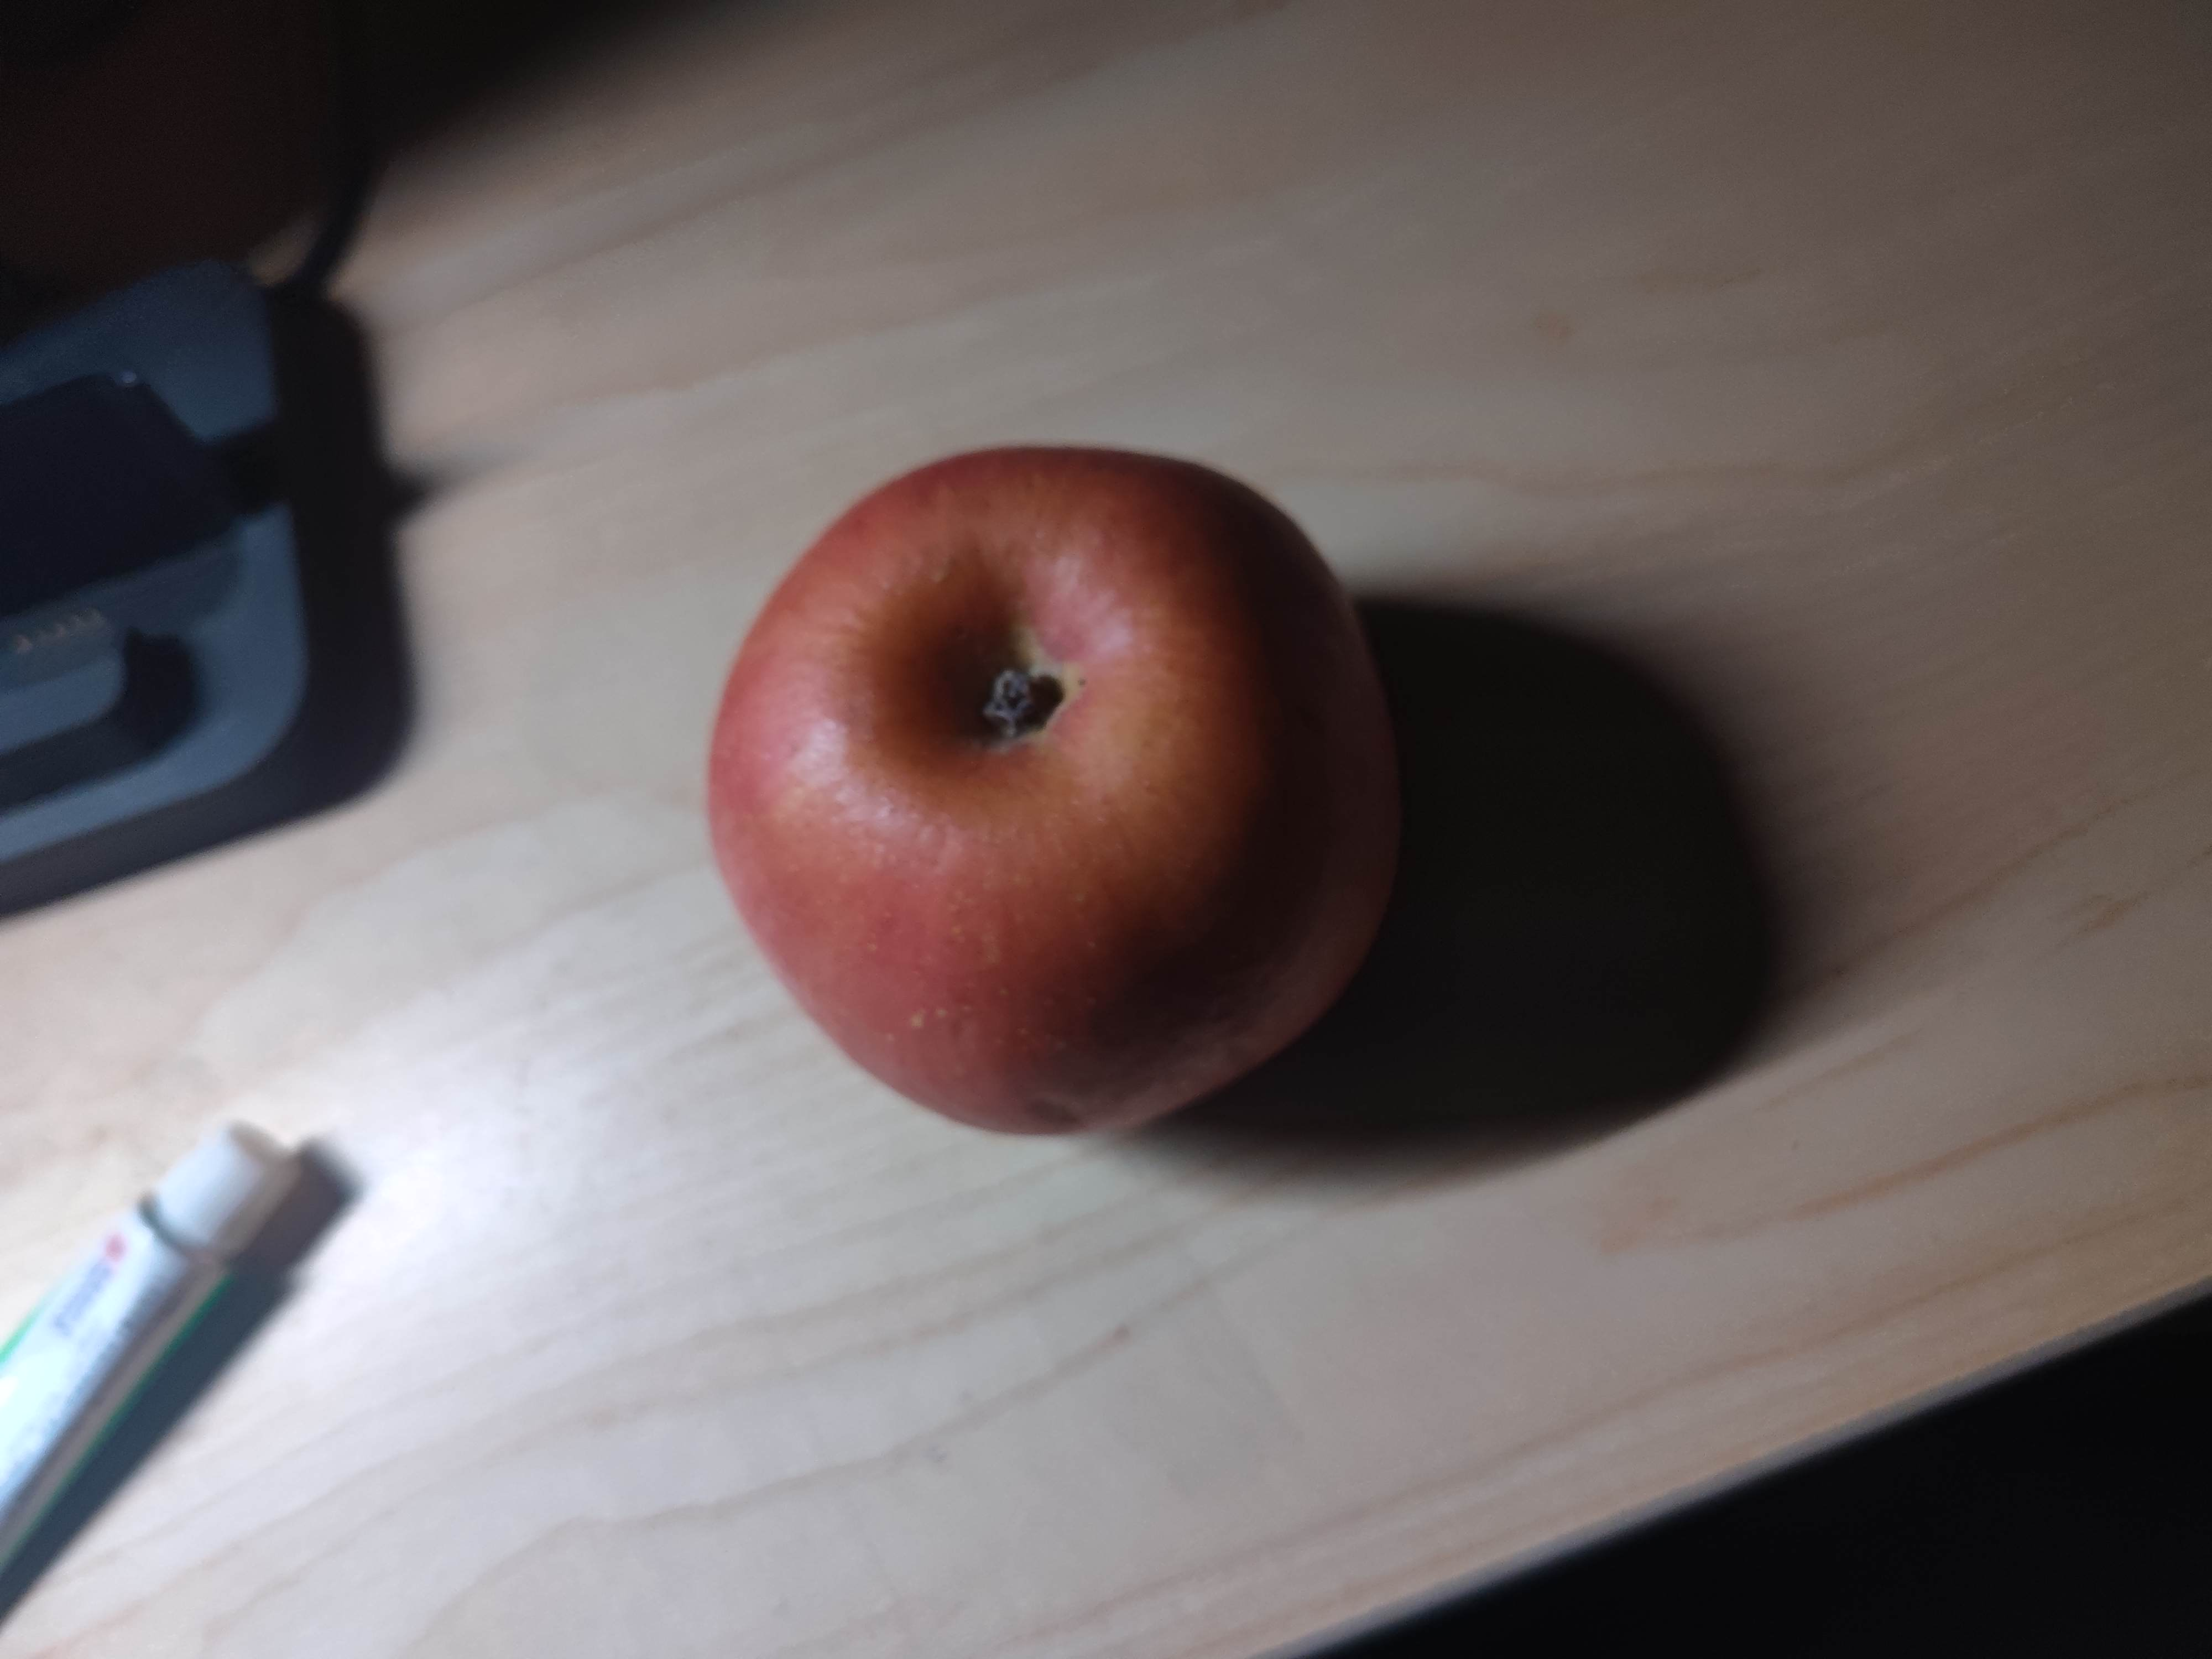apple: (707, 448, 1407, 1147)
